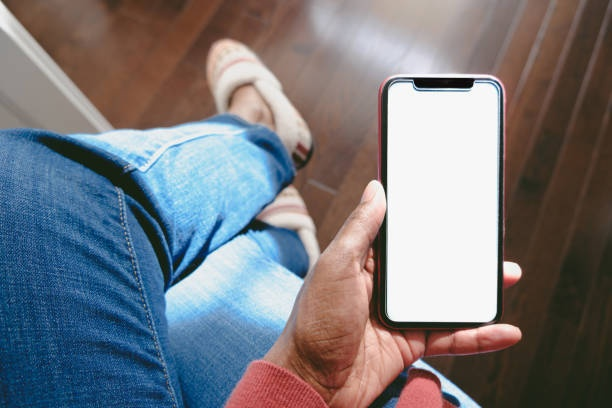phone: (378, 73, 505, 328)
